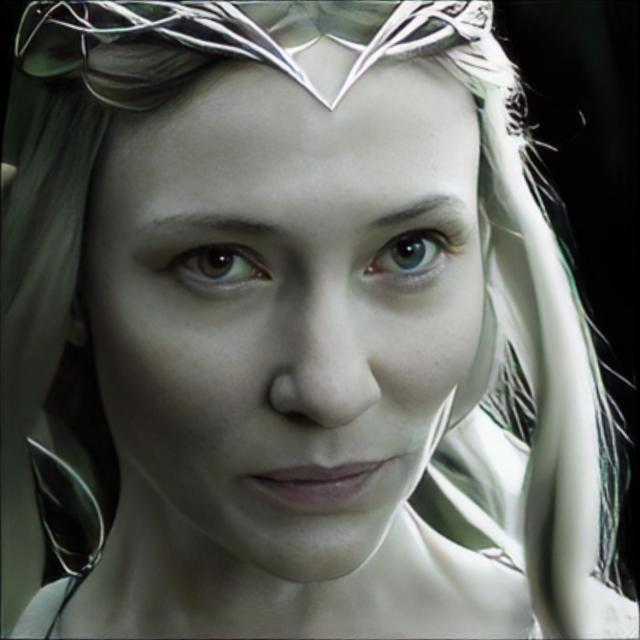content: (87, 32, 497, 580)
